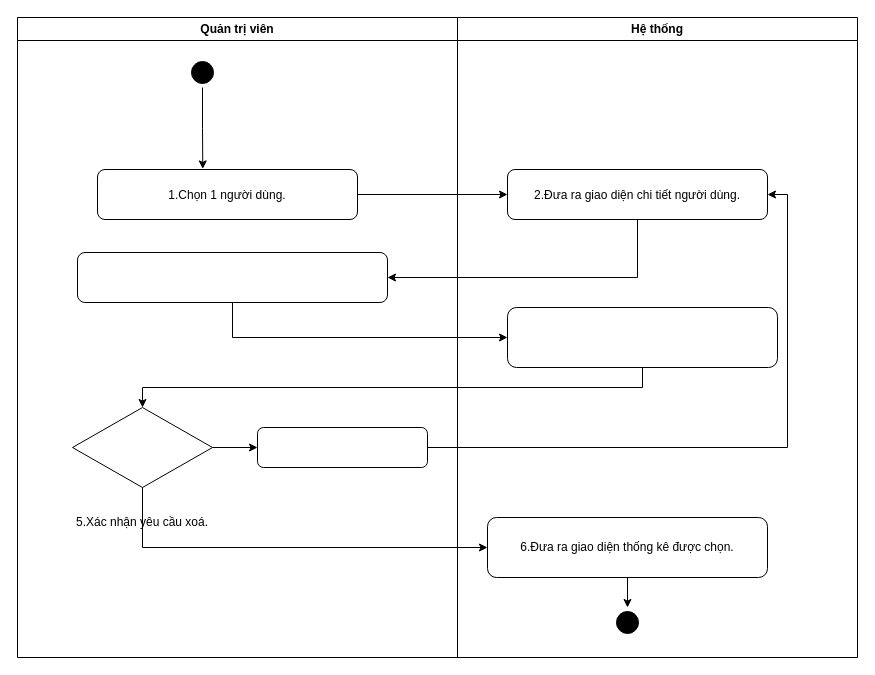
Image size: 875x675. Some labels were removed from this diagram. The shapes that lost their labels are listed below. From the top down, each one's box as (x1, y1, x2, y2) in pixels, then its label:
(76, 252, 388, 302): 3.Chọn xoá người dùng.
(506, 306, 778, 368): 4.Hệ thống hiện cảnh báo và yêu cầu xác nhận.
(256, 426, 428, 468): 5.1 Chọn huỷ xoá.
